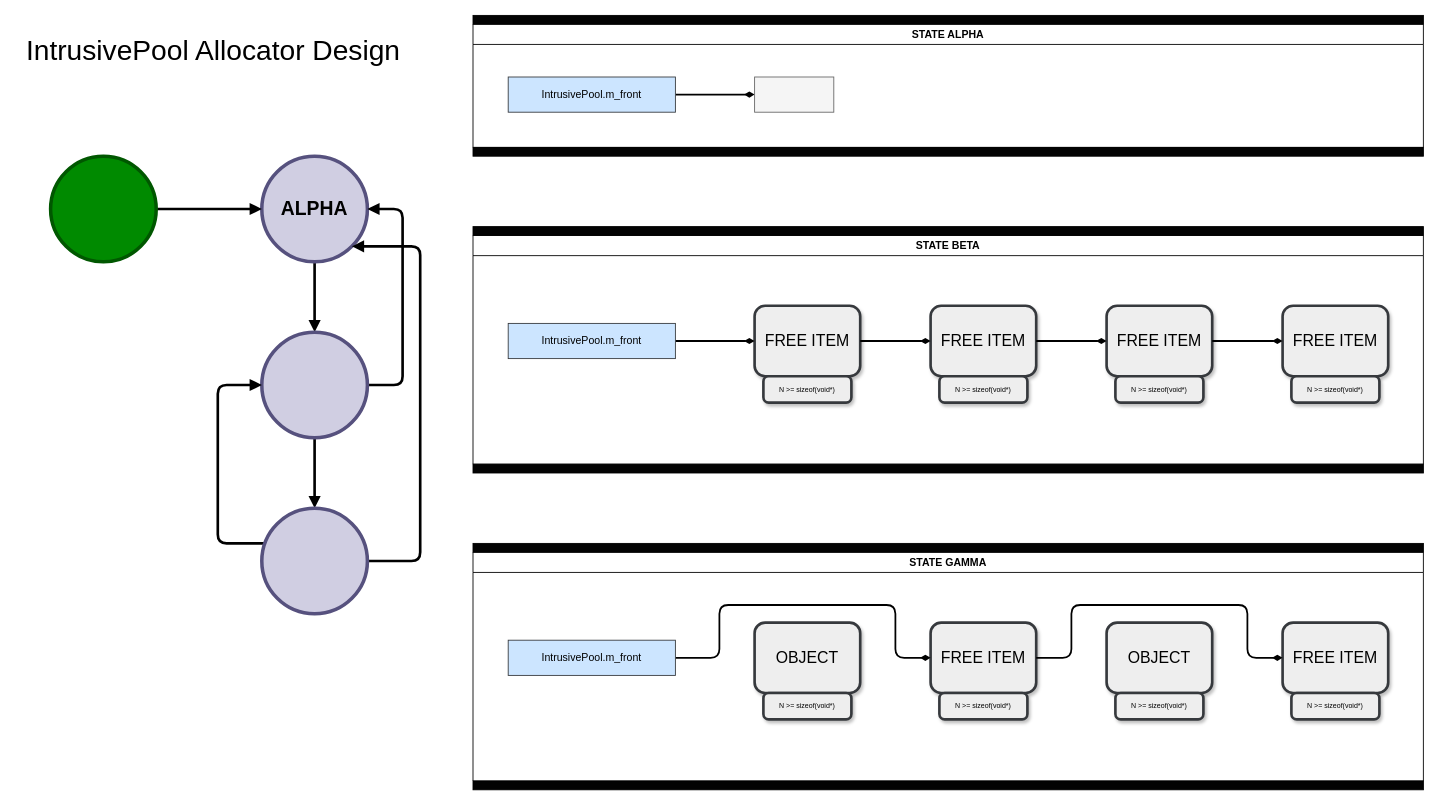
This 1439x805 diagram has some shape labels left out. The shapes that lost their labels are listed below. From the top down, each one's centre as x and y in pixels, then its label:
(x=794, y=94): nullptr
(x=103, y=208): START
(x=314, y=384): BETA
(x=314, y=560): GAMMA
